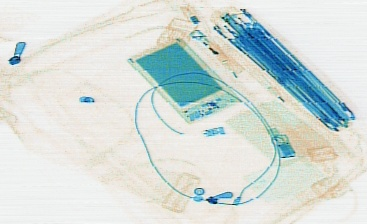lighter: (187, 25, 245, 78)
